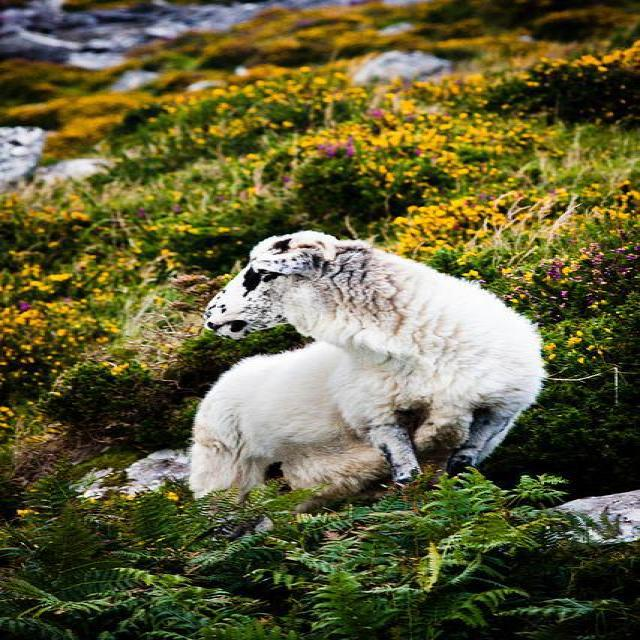Sheep: (183, 230, 548, 577)
